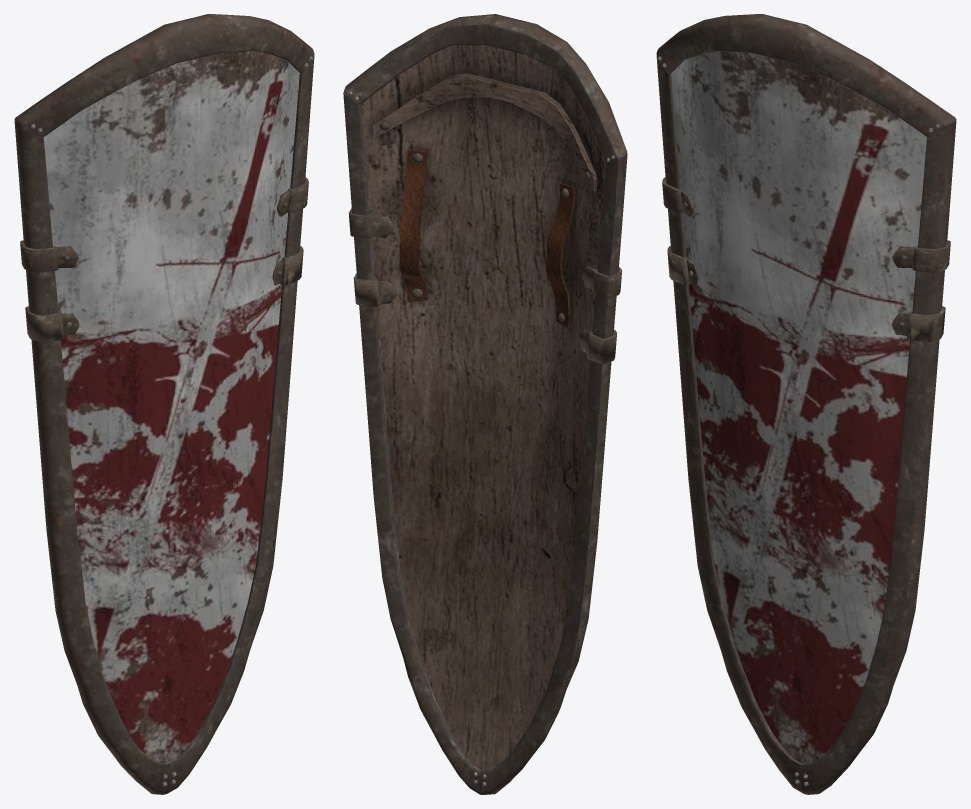
Rendered from kite_shield.glb.
3 renders of one model, left to right at view 1: azimuth 30°, elevation 25°; view 2: azimuth 150°, elevation 25°; view 3: azimuth 330°, elevation 25°, orthographic. The views are drawn at different scales.
Parts seen in each view (by area): view 1: kite_shield_body, kite_shield_metal_trim; view 2: kite_shield_body, kite_shield_metal_trim; view 3: kite_shield_body, kite_shield_metal_trim.
Part boxes in pixels (box(x1,y1,x2,y2)): kite_shield_body: box(43, 51, 299, 764); kite_shield_metal_trim: box(14, 14, 314, 794); kite_shield_body: box(361, 45, 606, 770); kite_shield_metal_trim: box(343, 14, 627, 794); kite_shield_body: box(671, 51, 927, 763); kite_shield_metal_trim: box(656, 14, 956, 794).
Bounding box in the file's own units: 0.5433 × 1.39 × 0.1347.
2 materials, 2 textured.
